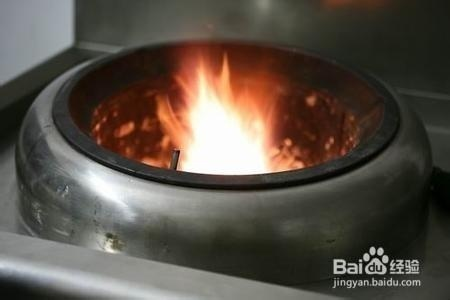fire: (162, 59, 280, 176)
